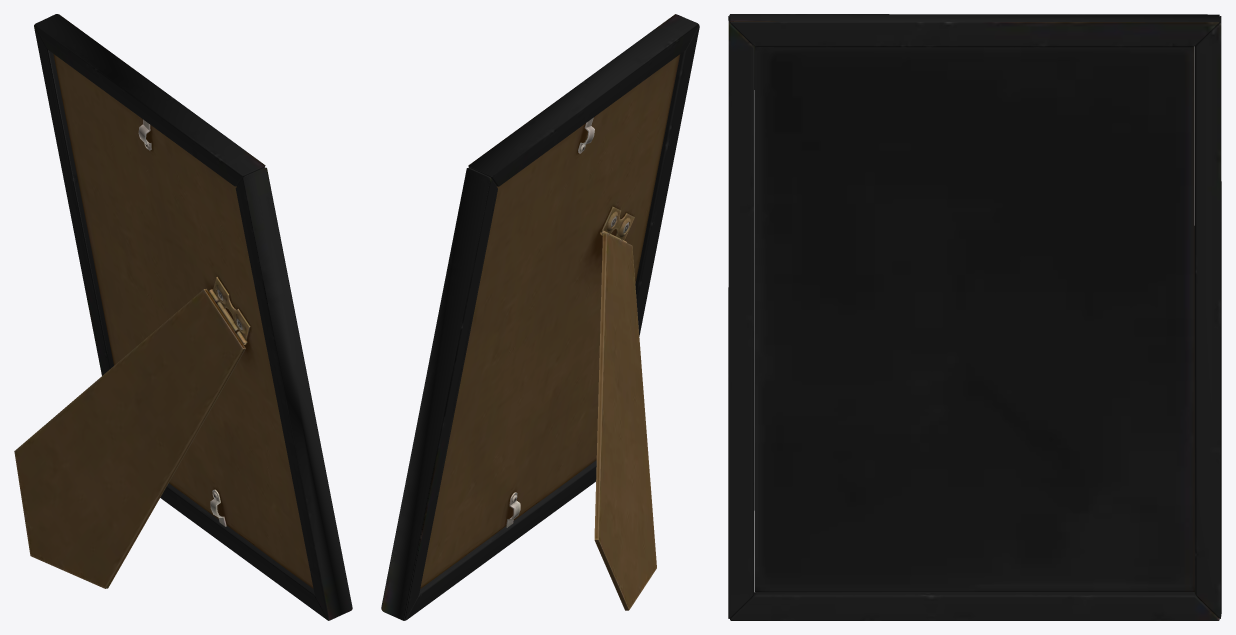
File: standing_picture_frame_01.glb
3 views of the same model, side by side, from view 1: azimuth 30°, elevation 25°; view 2: azimuth 150°, elevation 25°; view 3: azimuth 270°, elevation 25° (orthographic). The views are drawn at different scales.
Visible parts, largest first — view 1: standing_picture_frame_01; view 2: standing_picture_frame_01; view 3: standing_picture_frame_01.
Boxes of the visible parts, x1,y1,x2,y2 form: standing_picture_frame_01: [14, 14, 352, 620]; standing_picture_frame_01: [381, 14, 699, 620]; standing_picture_frame_01: [728, 14, 1221, 620].
Bounding box in the file's own units: 0.1003 × 0.2496 × 0.2006.
Materials: 3 (3 with a texture image).
